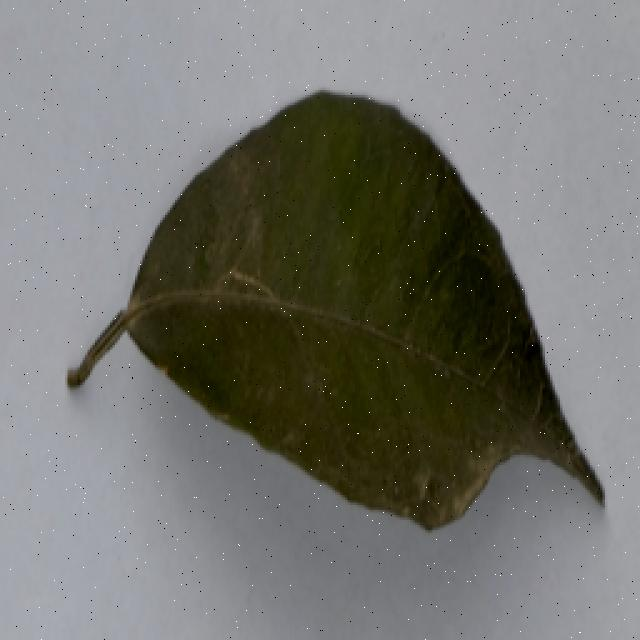healthy: (74, 88, 609, 570)
